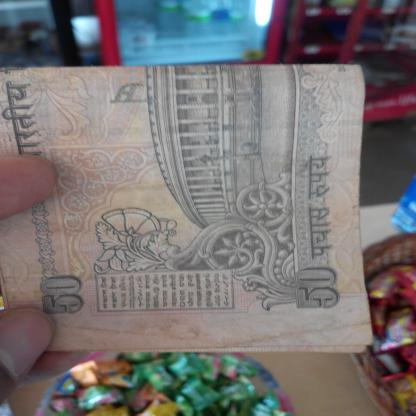Old50Back: (0, 64, 376, 354)
